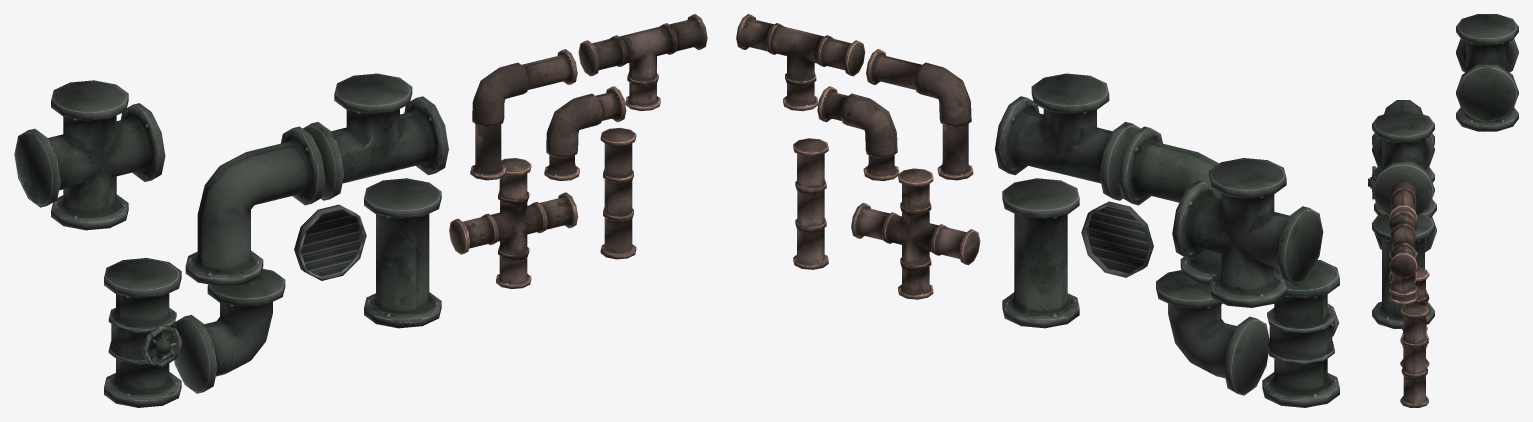
File: P_Pipes_1.gltf
3 views of the same model, side by side, from view 1: azimuth 30°, elevation 25°; view 2: azimuth 150°, elevation 25°; view 3: azimuth 270°, elevation 25° (orthographic). The views are drawn at different scales.
Parts seen in each view (by area): view 1: Cylinder.021, Cylinder.018, Cylinder.019, Cylinder.020, Cylinder.017, Cylinder.061, Cylinder.058, Cylinder.022, Cylinder.057, Cylinder.060, Cylinder.068, Cylinder.069; view 2: Cylinder.021, Cylinder.019, Cylinder.017, Cylinder.020, Cylinder.061, Cylinder.058, Cylinder.018, Cylinder.022, Cylinder.057, Cylinder.060, Cylinder.068, Cylinder.069; view 3: Cylinder.021, Cylinder.019, Cylinder.068, Cylinder.017, Cylinder.022, Cylinder.057, Cylinder.058, Cylinder.018, Cylinder.061, Cylinder.069.
Boxes of the visible parts, x1,y1,x2,y2 form: Cylinder.021: (14,80,165,230); Cylinder.018: (185,126,325,286); Cylinder.019: (303,73,448,200); Cylinder.020: (104,258,182,407); Cylinder.017: (364,178,441,328); Cylinder.061: (174,269,285,393); Cylinder.058: (449,158,578,288); Cylinder.022: (578,14,707,111); Cylinder.057: (470,49,577,180); Cylinder.060: (294,204,366,280); Cylinder.068: (600,127,636,259); Cylinder.069: (544,86,626,180); Cylinder.021: (1172,158,1323,307); Cylinder.019: (994,73,1140,200); Cylinder.017: (1002,178,1079,328); Cylinder.020: (1262,260,1339,407); Cylinder.061: (1156,270,1269,395); Cylinder.058: (851,168,980,299); Cylinder.018: (1118,126,1221,285); Cylinder.022: (736,14,865,111); Cylinder.057: (866,49,973,180); Cylinder.060: (1081,201,1153,277); Cylinder.068: (793,138,828,269); Cylinder.069: (817,86,899,180); Cylinder.021: (1456,14,1518,131); Cylinder.019: (1372,111,1434,215); Cylinder.068: (1400,304,1428,407); Cylinder.017: (1372,214,1434,328); Cylinder.022: (1389,211,1417,296); Cylinder.057: (1389,182,1417,258); Cylinder.058: (1400,267,1429,367); Cylinder.018: (1372,100,1434,182); Cylinder.061: (1374,199,1436,252); Cylinder.069: (1389,271,1417,304).
Size of the model in its own units: 45.55 by 18.97 by 12.28.
Materials: 1 (1 with a texture image).
